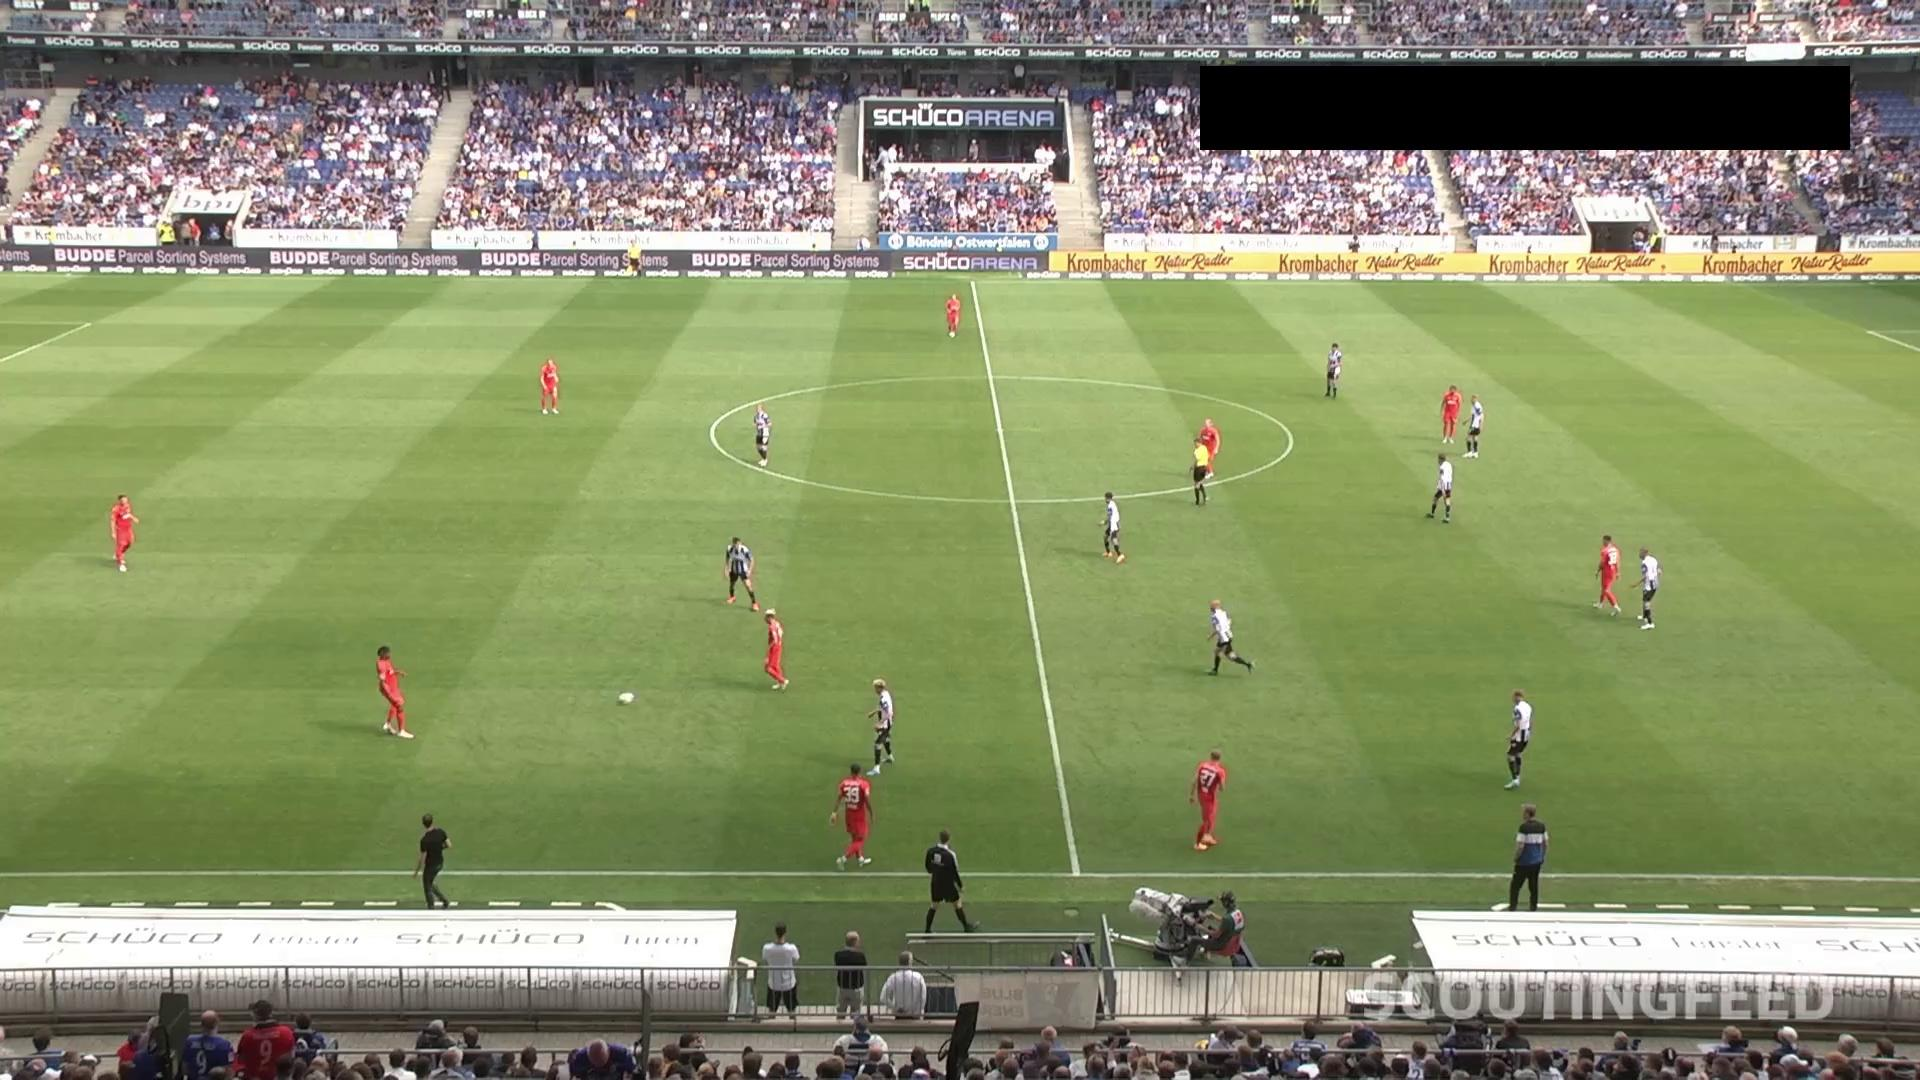Location-of-ball: (612, 687, 638, 713)
